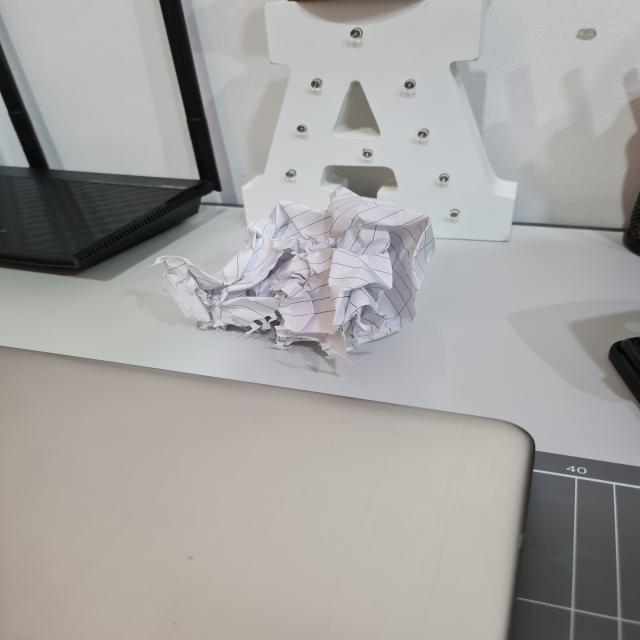Paper: (158, 212, 441, 358)
